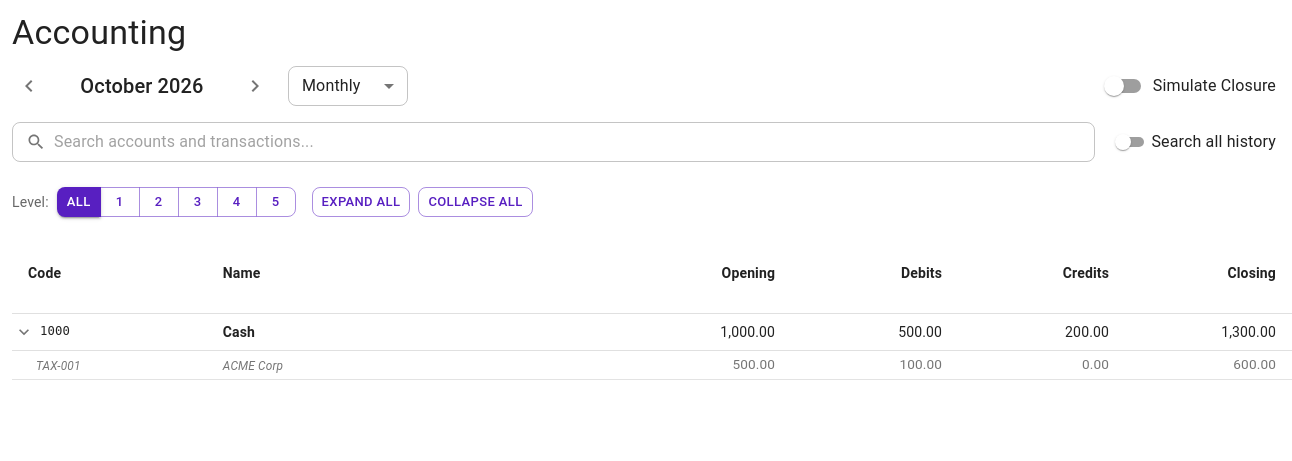
Test case: AccountingPage › shows warning banner and keeps toggle OFF when closure config is missing
The width and height of the screenshot is (1292, 461).
Click the checkbox labelled "Simulate Closure": {"x": 1190, "y": 86} [1104,76,1276,96]
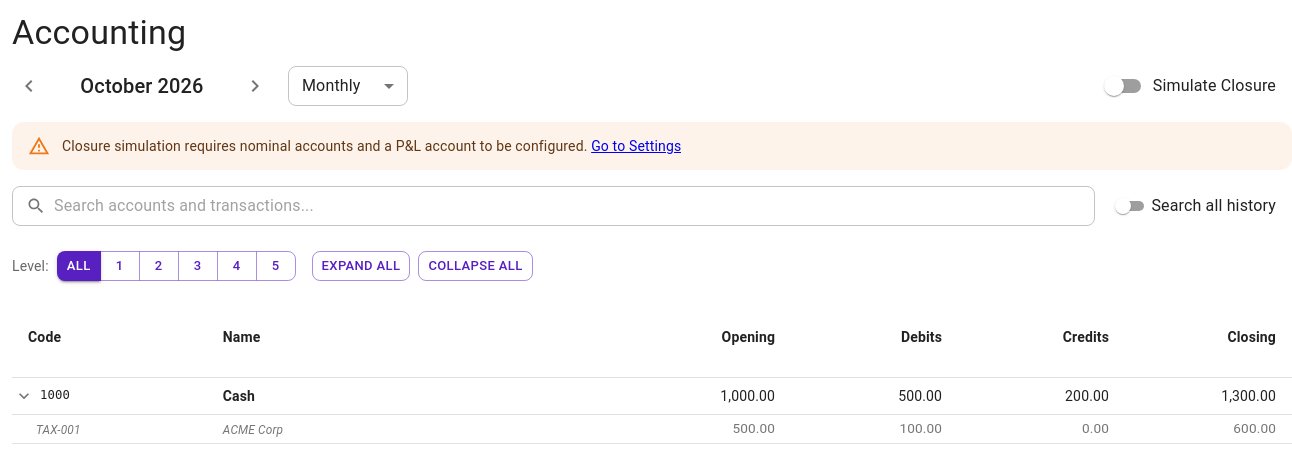
Now the message with test id "simulation-missing-config-banner" is shown, box [12,122,1291,170]
Now the text "requires nominal accounts and a P&L account" is shown, box [62,138,588,154]
Now the link with test id "missing-config-link" is shown, box [591,138,681,154]
